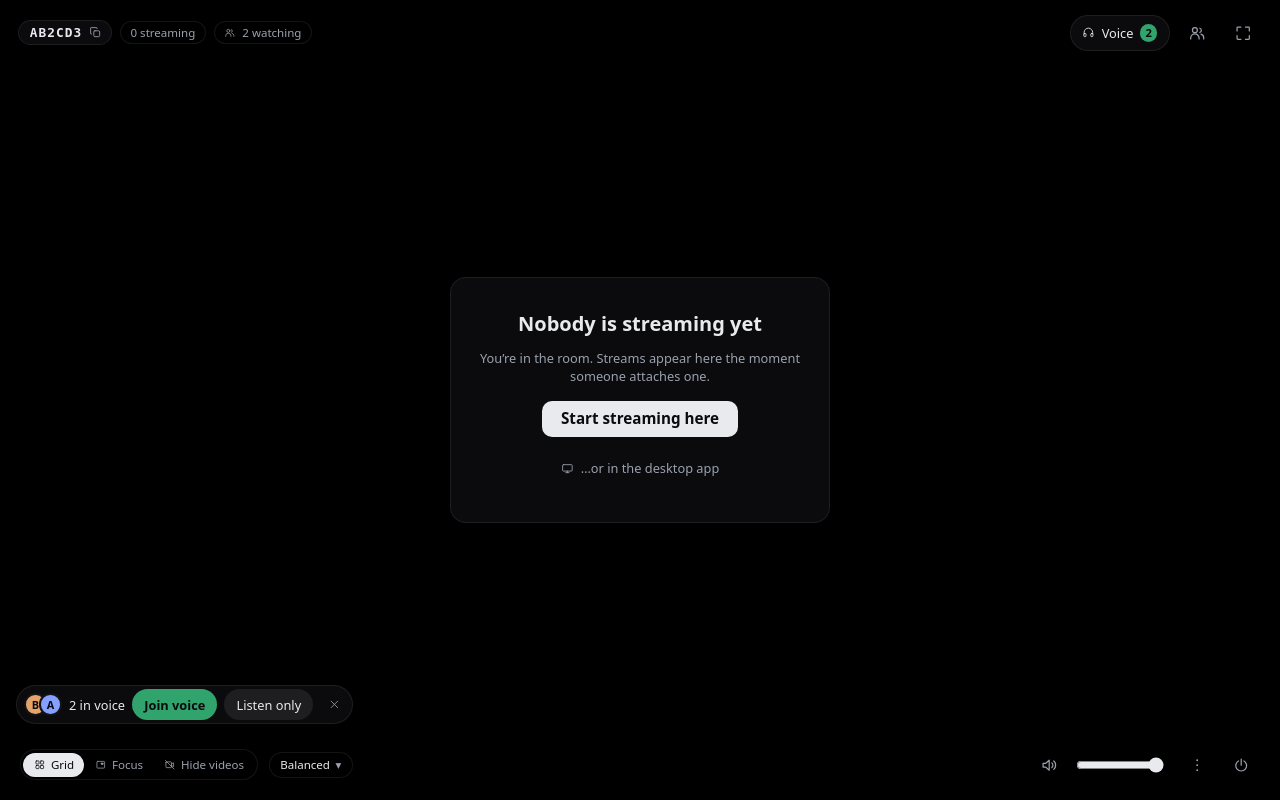
room voice UI › listen-only: VoiceJoin, ticket, a listen-only hello, no microphone; the dock appears
The width and height of the screenshot is (1280, 800).
Step 1. Click the button "Voice 2" → (1120, 33), box [1070,15,1170,51]
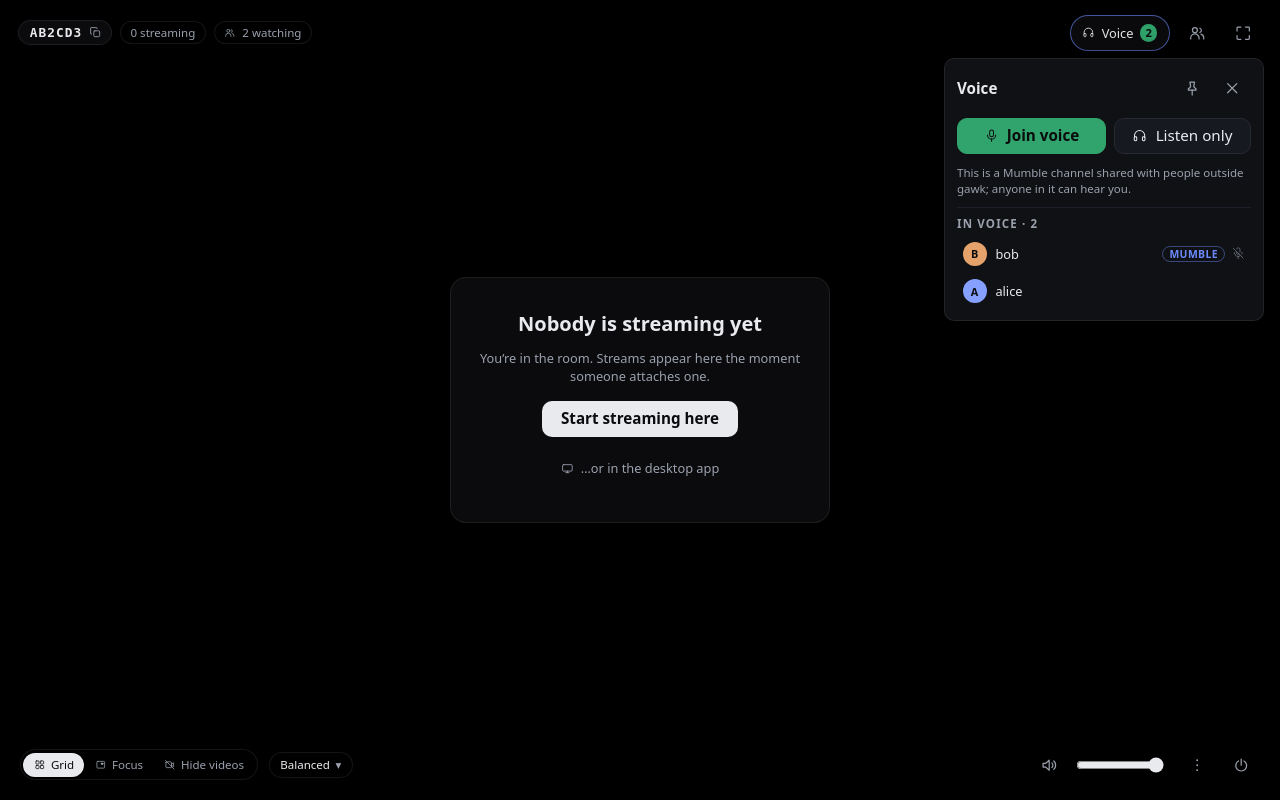
Step 2. Click the button "Listen only" → (1182, 136), box [1114,118,1251,154]
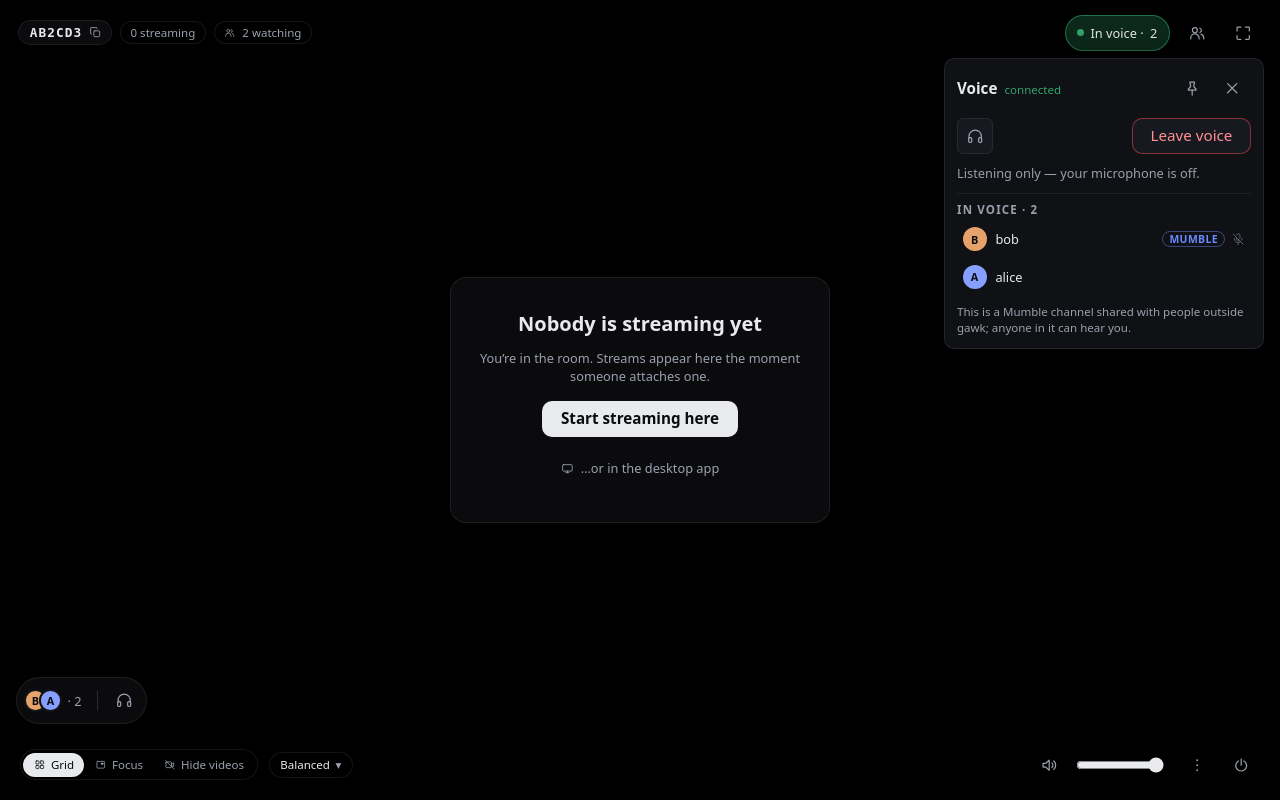
Expected: the element with test id "voice-dock" is shown, [16,677,147,724]
Expected: the text "Listening only — your microphone is off." is shown, [957,164,1200,182]
Step 3. Click the button with aria-label "bob: volume" → (1194, 239), box [957,222,1251,256]
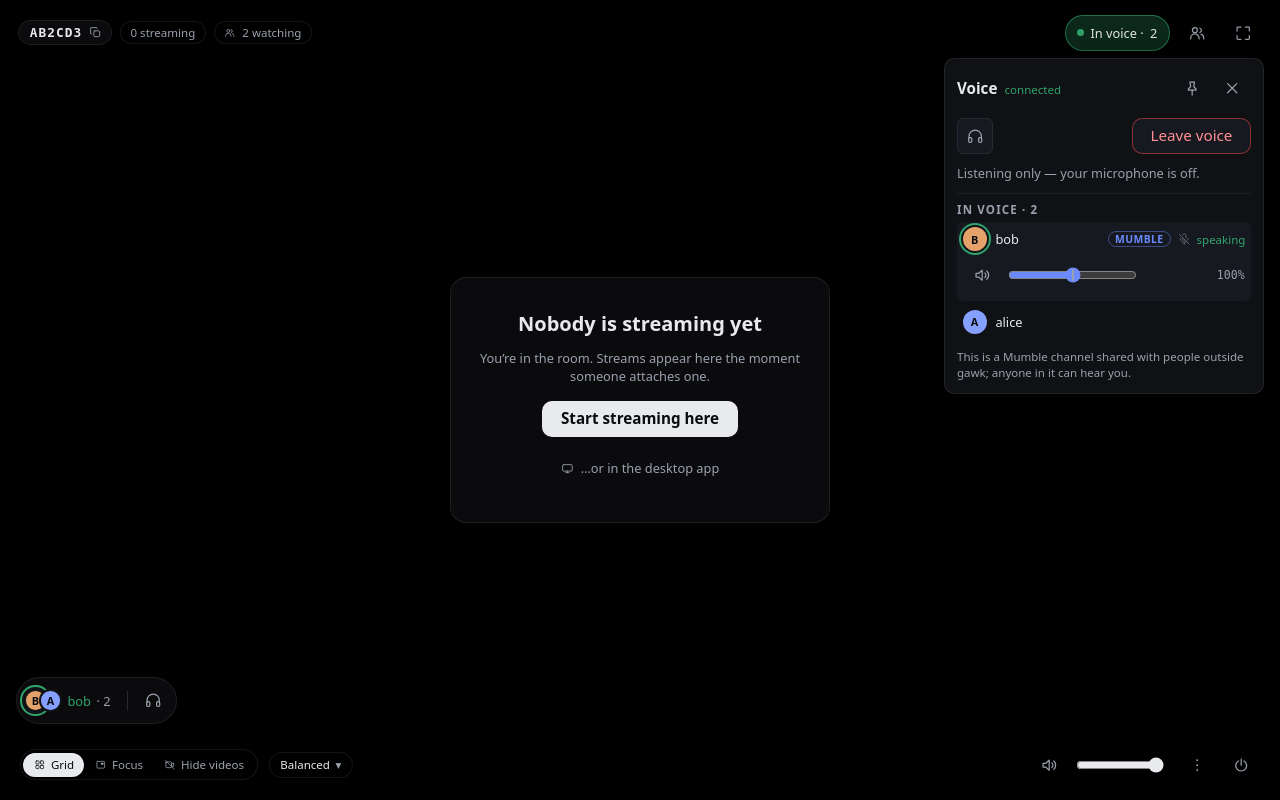
Expected: the text "B" below "Listening only — your microphone is off." is shown, [963,227,987,251]
Expected: the slider named "Volume of bob" is shown, [1008,267,1137,283]
Step 4. Click the button "Leave voice" → (1191, 136), box [1132,118,1251,154]
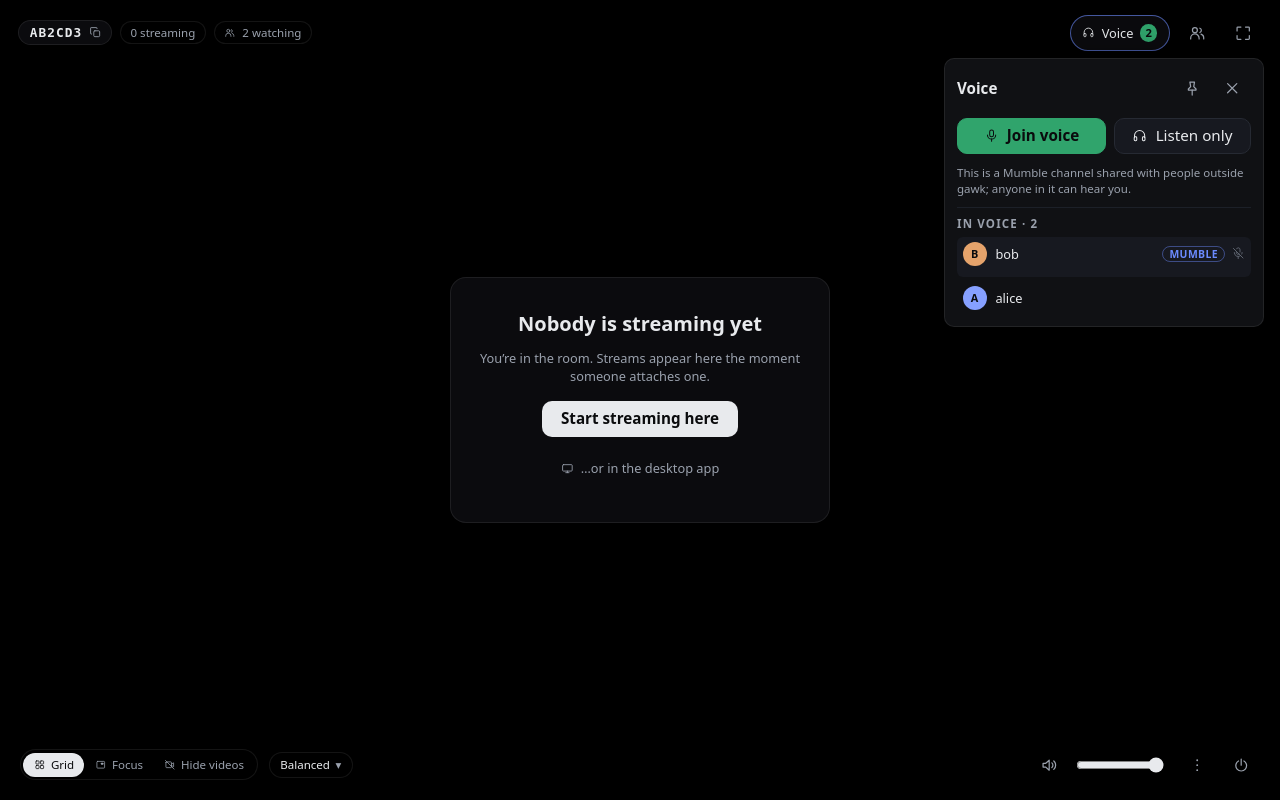
Expected: the element with test id "voice-dock" is gone
